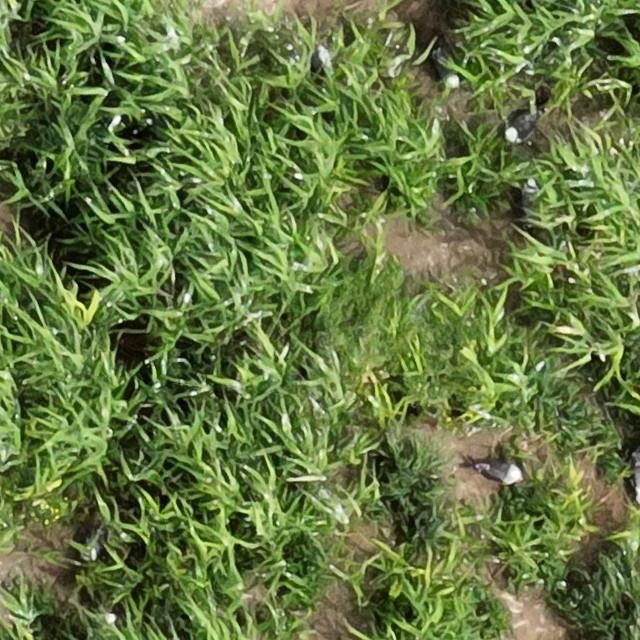umineko: (438, 44, 459, 90), (505, 111, 535, 142), (479, 463, 523, 483)
